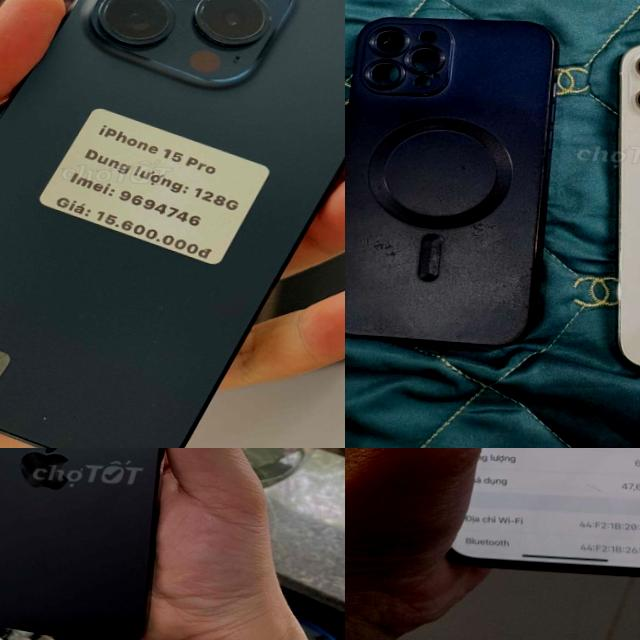gen_12_13: (409, 448, 640, 582)
gen_15: (0, 0, 345, 448), (0, 448, 186, 640)
